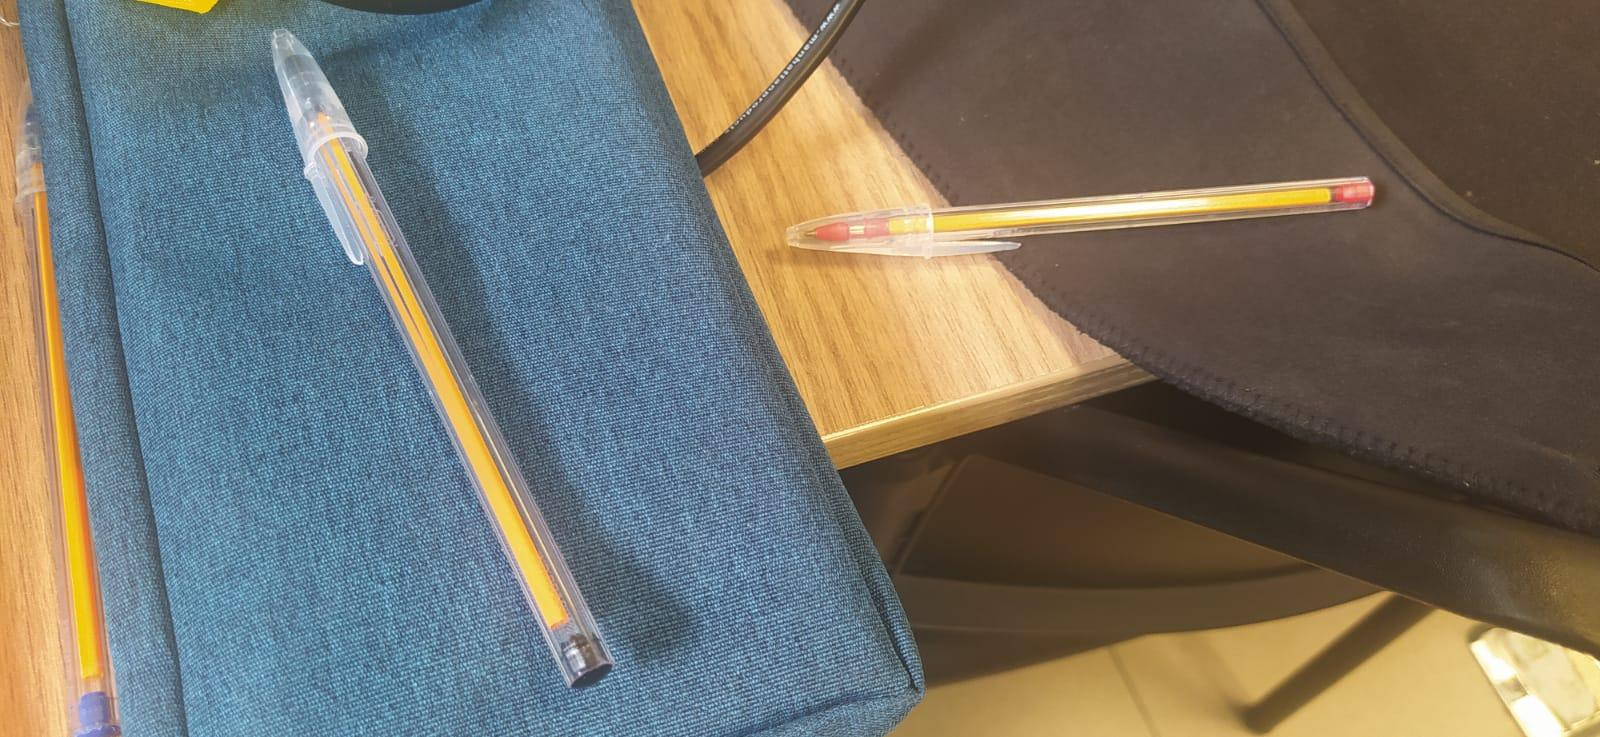pen: (265, 23, 617, 698), (11, 68, 118, 737), (785, 171, 1378, 266)
